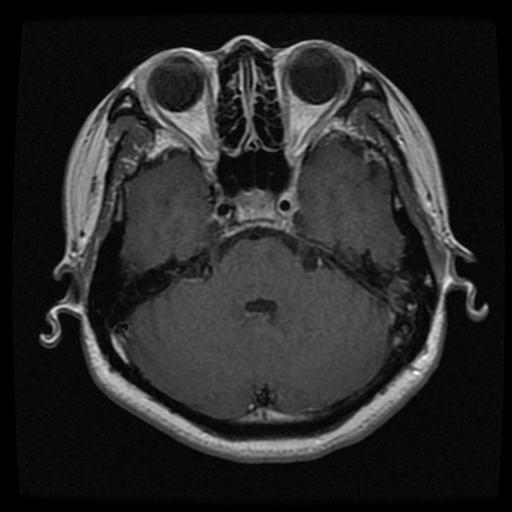Pituirity_tumour: (234, 190, 275, 220)
